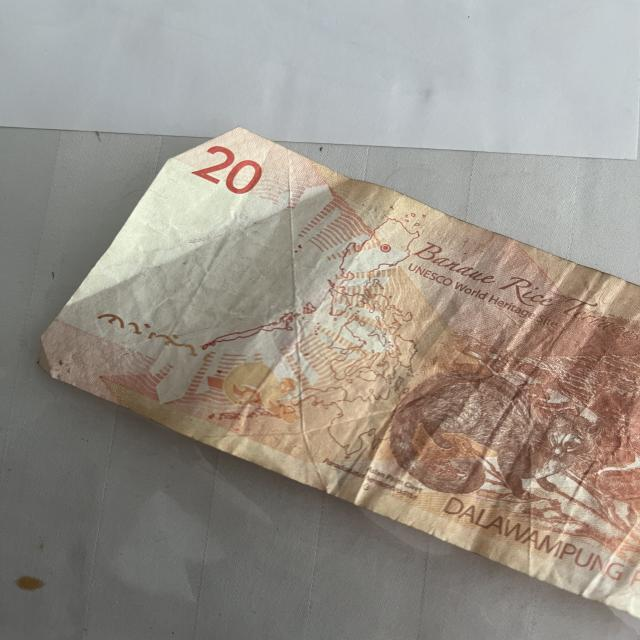20_civet: (392, 364, 592, 498)
20_civet_watermark: (221, 357, 305, 418)
